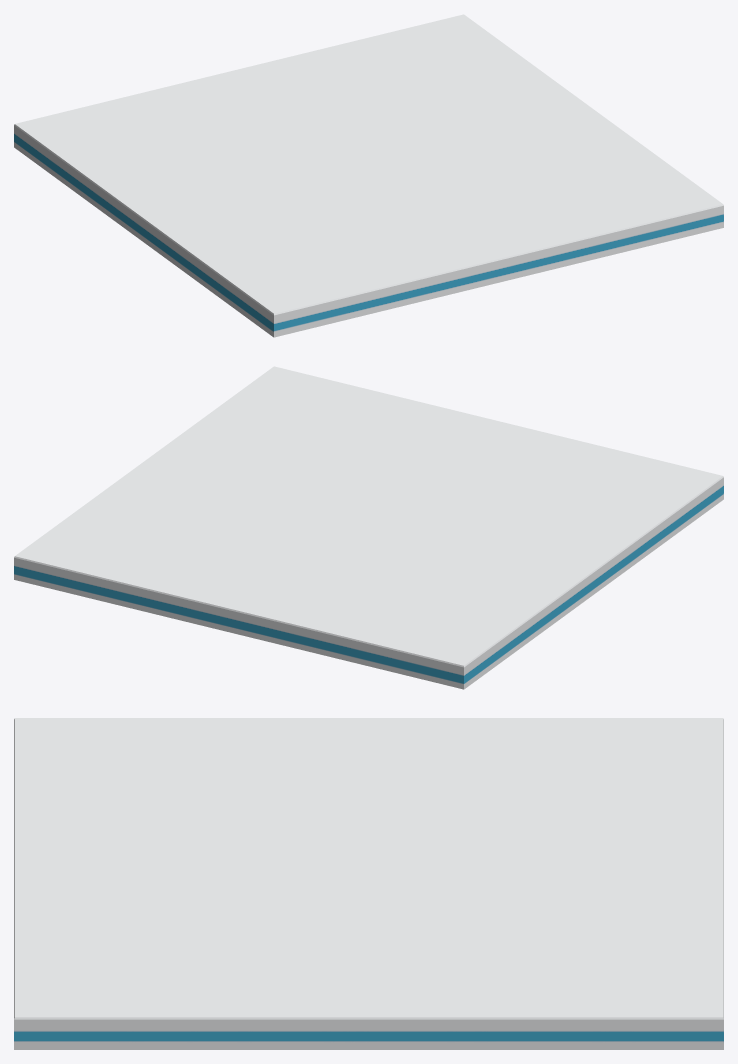
Rendered from Floor_TileChunks.fbx.
3 views of the same model, one above another, from view 1: azimuth 30°, elevation 25°; view 2: azimuth 150°, elevation 25°; view 3: azimuth 270°, elevation 25° (orthographic). The views are drawn at different scales.
Parts seen in each view (by area): view 1: Floor_Tile_Chunk_08_51, Floor_Tile_Chunk_01_50, Floor_Tile_Chunk_06_49, Floor_Tile_Chunk_05_12, Floor_Tile_Chunk_01_23, Floor_Tile_Chunk_03_38, Floor_Tile_Chunk_03_41, Floor_Tile_Chunk_01_78, Floor_Tile_Chunk_07_40, Floor_Tile_Chunk_04_52, Floor_Tile_Chunk_04_20, Floor_Tile_Chunk_08_00 (+63 smaller); view 2: Floor_Tile_Chunk_05_12, Floor_Tile_Chunk_07_40, Floor_Tile_Chunk_01_23, Floor_Tile_Chunk_04_28, Floor_Tile_Chunk_03_41, Floor_Tile_Chunk_03_38, Floor_Tile_Chunk_09_30, Floor_Tile_Chunk_08_51, Floor_Tile_Chunk_01_78, Floor_Tile_Chunk_03_57, Floor_Tile_Chunk_04_20, Floor_Tile_Chunk_08_00 (+63 smaller); view 3: Floor_Tile_Chunk_01_23, Floor_Tile_Chunk_05_12, Floor_Tile_Chunk_08_51, Floor_Tile_Chunk_01_78, Floor_Tile_Chunk_03_41, Floor_Tile_Chunk_07_40, Floor_Tile_Chunk_06_49, Floor_Tile_Chunk_09_55, Floor_Tile_Chunk_02_02, Floor_Tile_Chunk_10_33, Floor_Tile_Chunk_03_38, Floor_Tile_Chunk_08_00 (+64 smaller).
Boxes of the visible parts, left/top/right/bottom form: Floor_Tile_Chunk_08_51: left=609, top=173, right=723, bottom=249; Floor_Tile_Chunk_01_50: left=285, top=270, right=403, bottom=334; Floor_Tile_Chunk_06_49: left=389, top=235, right=480, bottom=305; Floor_Tile_Chunk_05_12: left=343, top=14, right=497, bottom=73; Floor_Tile_Chunk_01_23: left=442, top=44, right=561, bottom=111; Floor_Tile_Chunk_03_38: left=208, top=263, right=296, bottom=337; Floor_Tile_Chunk_03_41: left=358, top=97, right=491, bottom=142; Floor_Tile_Chunk_01_78: left=489, top=86, right=601, bottom=136; Floor_Tile_Chunk_07_40: left=272, top=44, right=392, bottom=87; Floor_Tile_Chunk_04_52: left=506, top=212, right=620, bottom=268; Floor_Tile_Chunk_04_20: left=142, top=207, right=231, bottom=270; Floor_Tile_Chunk_08_00: left=182, top=230, right=284, bottom=289; Floor_Tile_Chunk_05_12: left=14, top=531, right=172, bottom=609; Floor_Tile_Chunk_07_40: left=135, top=549, right=235, bottom=625; Floor_Tile_Chunk_01_23: left=55, top=484, right=201, bottom=532; Floor_Tile_Chunk_04_28: left=225, top=593, right=321, bottom=652; Floor_Tile_Chunk_03_41: left=200, top=492, right=303, bottom=545; Floor_Tile_Chunk_03_38: left=633, top=472, right=723, bottom=546; Floor_Tile_Chunk_09_30: left=423, top=630, right=507, bottom=689; Floor_Tile_Chunk_08_51: left=232, top=366, right=359, bottom=415; Floor_Tile_Chunk_01_78: left=113, top=455, right=229, bottom=496; Floor_Tile_Chunk_03_57: left=316, top=603, right=403, bottom=668; Floor_Tile_Chunk_04_20: left=546, top=533, right=632, bottom=595; Floor_Tile_Chunk_08_00: left=559, top=506, right=659, bottom=565; Floor_Tile_Chunk_01_23: left=430, top=960, right=613, bottom=1049; Floor_Tile_Chunk_05_12: left=606, top=936, right=723, bottom=1049; Floor_Tile_Chunk_08_51: left=14, top=960, right=145, bottom=1049; Floor_Tile_Chunk_01_78: left=321, top=955, right=456, bottom=1049; Floor_Tile_Chunk_03_41: left=394, top=890, right=540, bottom=964; Floor_Tile_Chunk_07_40: left=581, top=889, right=723, bottom=940; Floor_Tile_Chunk_06_49: left=14, top=803, right=153, bottom=857; Floor_Tile_Chunk_09_55: left=131, top=980, right=209, bottom=1049; Floor_Tile_Chunk_02_02: left=14, top=927, right=177, bottom=970; Floor_Tile_Chunk_10_33: left=262, top=829, right=365, bottom=883; Floor_Tile_Chunk_03_38: left=14, top=718, right=193, bottom=748; Floor_Tile_Chunk_08_00: left=177, top=718, right=277, bottom=770.
Size of the model in its own units: 4 by 0.2 by 4.
